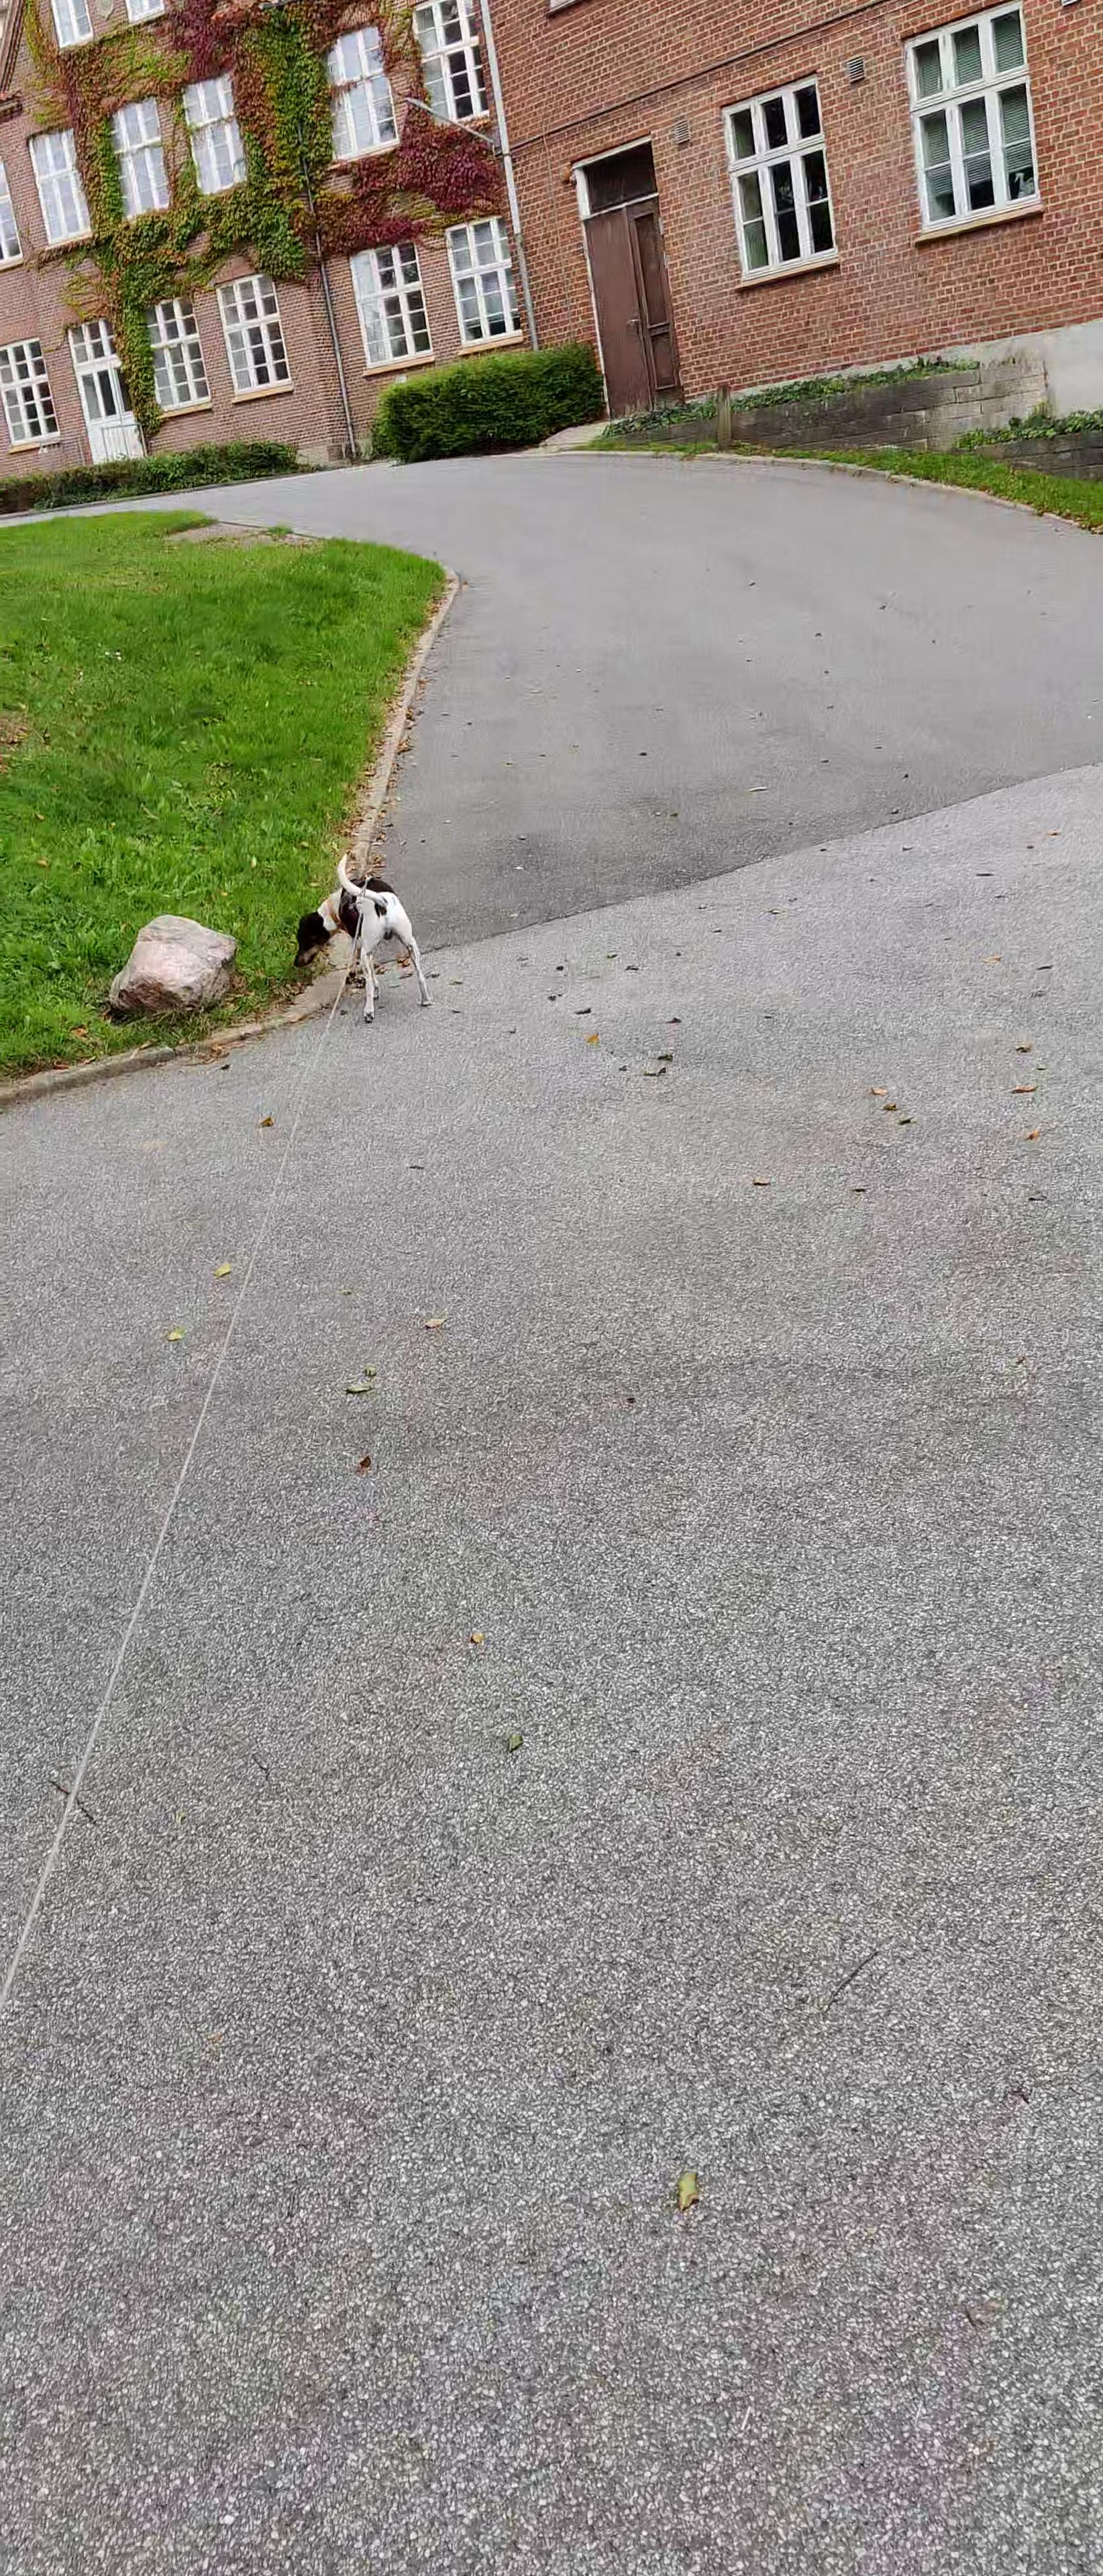Dog: (284, 848, 439, 1025)
